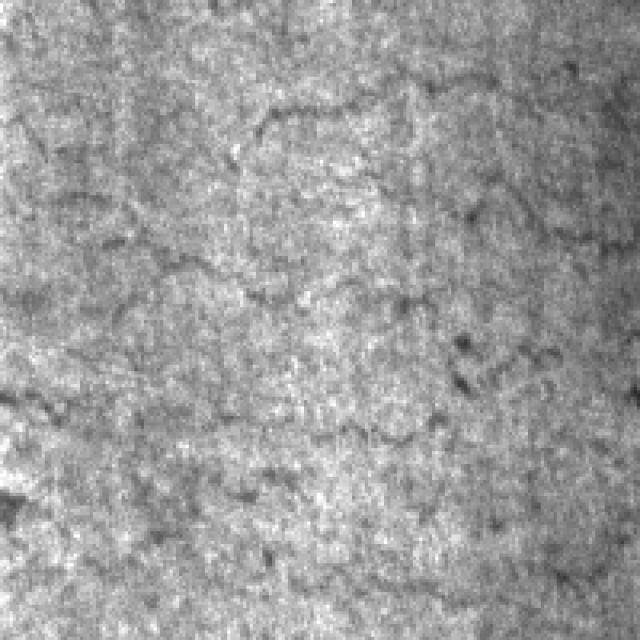crazing: (99, 48, 640, 342), (106, 380, 640, 601)
